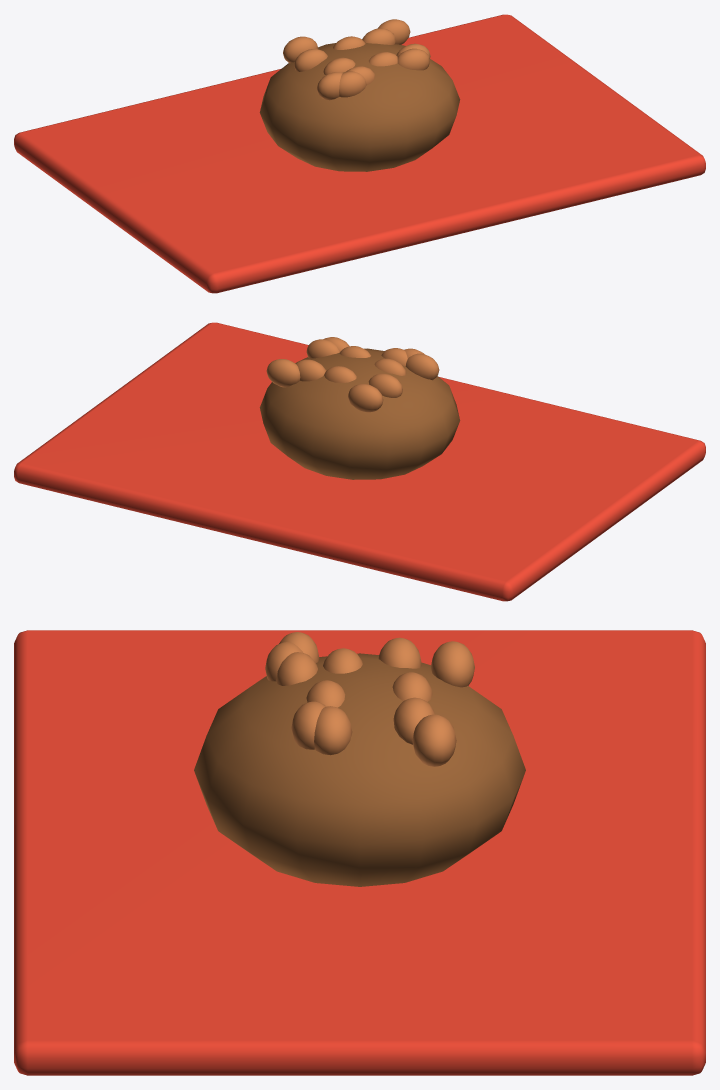
The model's file is NJD-21.glb.
3 renders of one model, top to bottom at view 1: azimuth 30°, elevation 25°; view 2: azimuth 150°, elevation 25°; view 3: azimuth 270°, elevation 25°, orthographic. The views are drawn at different scales.
Visible parts, largest first — view 1: woven mat, basket, dates.005, dates.011, dates, dates.007, dates.006, dates.008, dates.004; view 2: woven mat, basket, dates, dates.008, dates.007, dates.006, dates.004, dates.010; view 3: woven mat, basket, dates.008, dates, dates.010, dates.004, dates.011, dates.002, dates.006, dates.003, dates.001, dates.009 (+1 smaller).
Boxes of the visible parts, x1,y1,x2,y2 form: woven mat: (14,14,705,293); basket: (259,42,460,171); dates.005: (339,71,366,97); dates.011: (397,48,429,70); dates: (283,36,318,63); dates.007: (317,72,342,100); dates.006: (294,49,327,71); dates.008: (377,19,410,44); dates.004: (362,28,395,44); woven mat: (14,322,705,601); basket: (259,348,460,479); dates: (348,384,383,412); dates.008: (266,359,300,387); dates.007: (405,353,439,380); dates.006: (368,373,402,397); dates.004: (296,359,326,381); dates.010: (306,339,339,358); woven mat: (14,630,705,1075); basket: (194,653,525,886); dates.008: (412,714,456,766); dates: (431,641,474,687); dates.010: (314,706,352,755); dates.004: (393,697,434,744); dates.011: (291,701,325,749); dates.002: (276,652,317,685); dates.006: (378,637,421,668); dates.003: (392,672,432,701); dates.001: (306,680,345,707); dates.009: (323,648,362,673).
Size of the model in its own units: 1.8 by 0.395 by 1.25.
